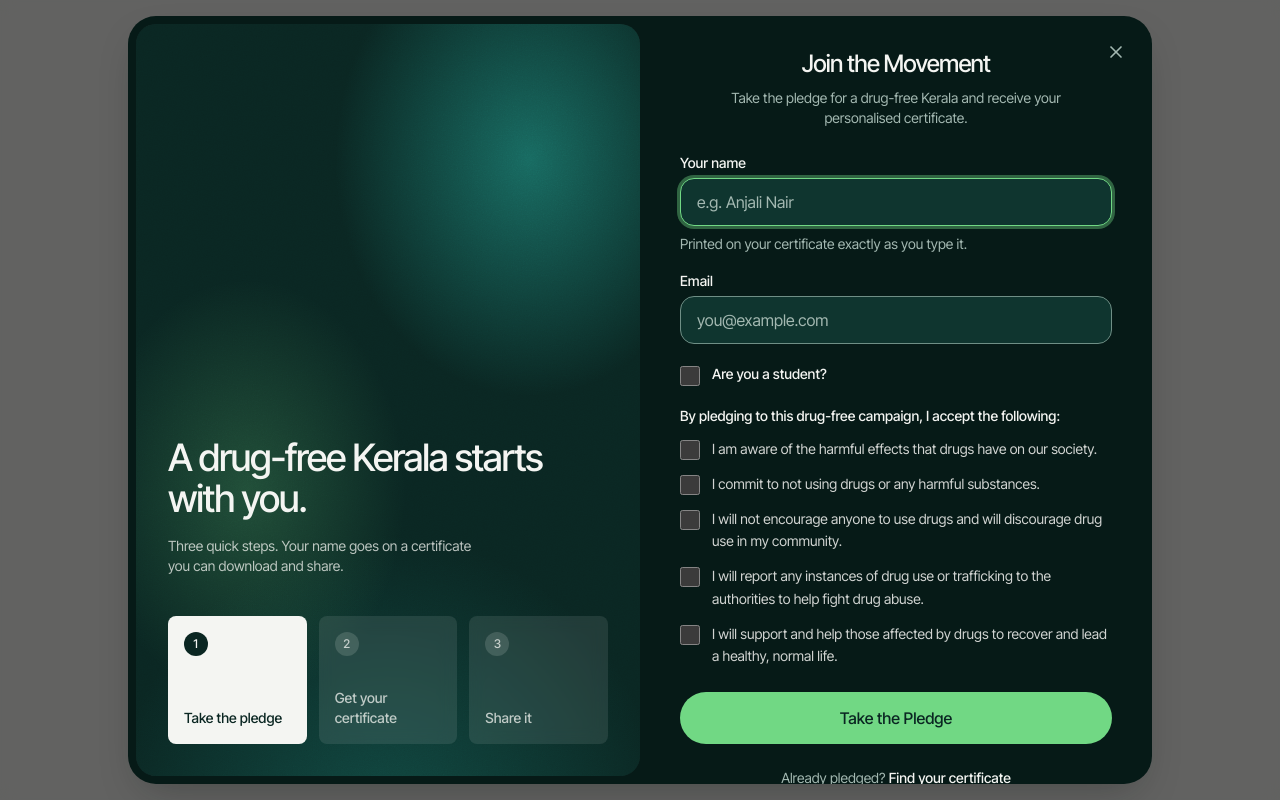
Scenario: PledgeDialog › validates in the browser with the server's messages before submitting
This screenshot has width=1280, height=800.
Click the button "Take the Pledge". click: x=896, y=718
box: left=680, top=692, right=1112, bottom=744
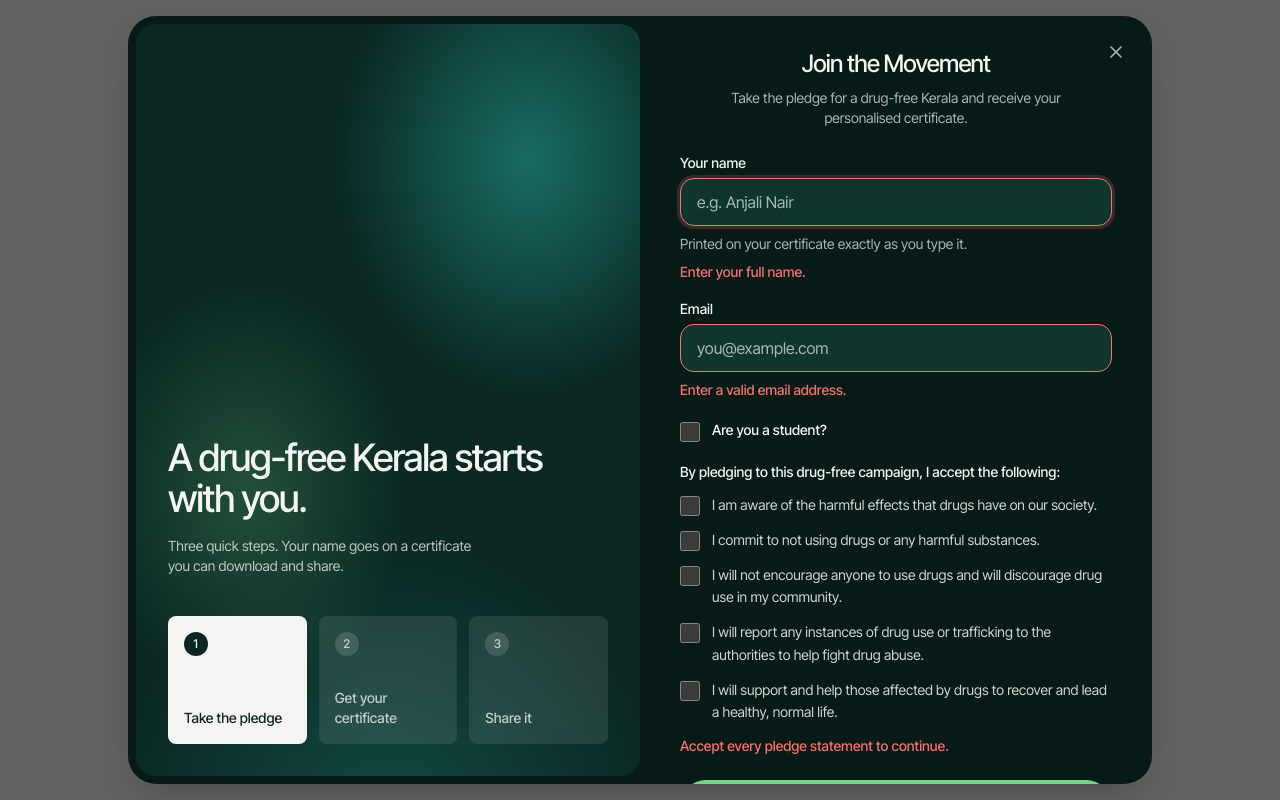
expect the text "Accept every pledge statement to continue." is shown: met, box left=680, top=737, right=949, bottom=754
